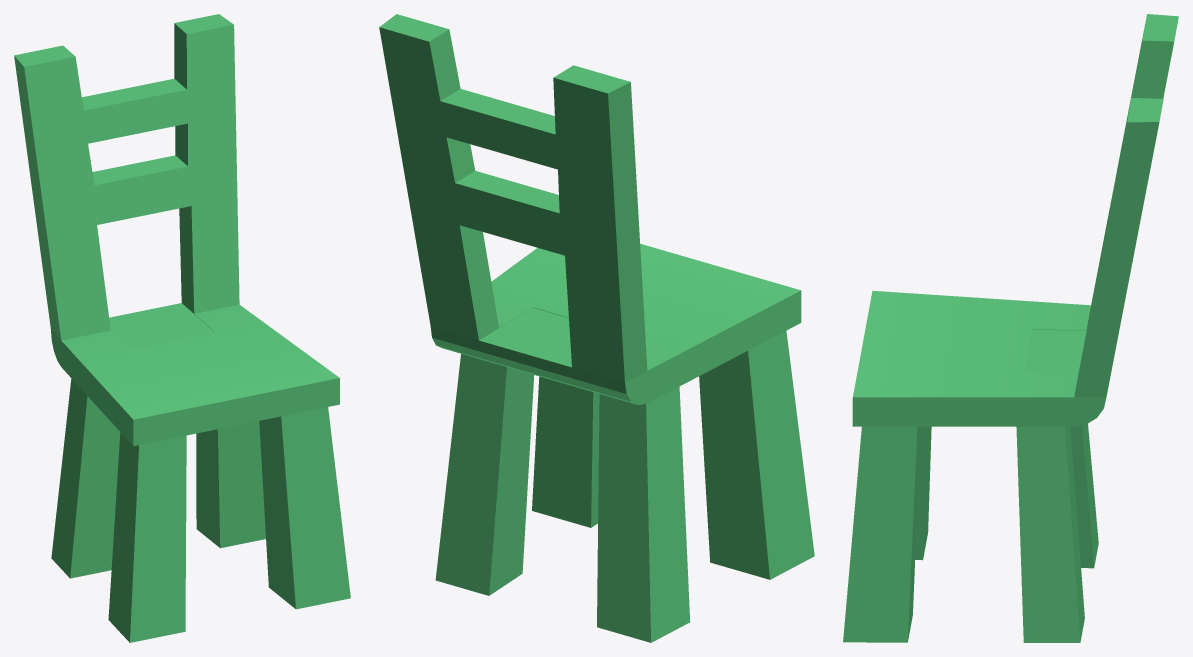
Rendered from sandalye.fbx.
3 renders of one model, left to right at view 1: azimuth 30°, elevation 25°; view 2: azimuth 150°, elevation 25°; view 3: azimuth 270°, elevation 25°, orthographic. The views are drawn at different scales.
Visible parts, largest first — view 1: Cube.012; view 2: Cube.012; view 3: Cube.012.
Boxes of the visible parts, x1=… form: Cube.012: x1=14, y1=14, x2=350, y2=642; Cube.012: x1=379, y1=14, x2=814, y2=642; Cube.012: x1=843, y1=14, x2=1178, y2=642.
Size of the model in its own units: 152 by 180 by 311.
